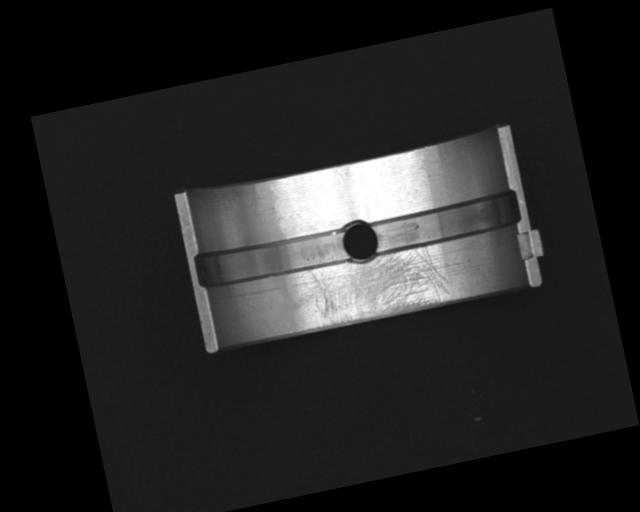gap: (193, 224, 351, 293), (369, 191, 523, 253)
hole: (339, 215, 380, 266)
scratch: (296, 241, 453, 331)
